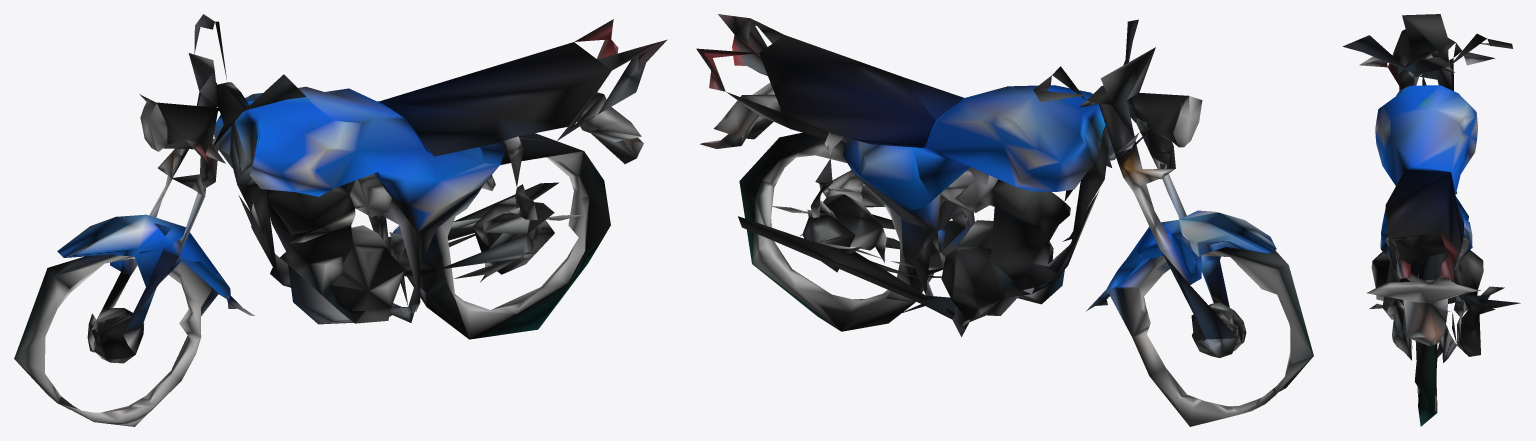
File: moto-azul-lejos.glb
3 renders of one model, left to right at view 1: azimuth 30°, elevation 25°; view 2: azimuth 150°, elevation 25°; view 3: azimuth 270°, elevation 25°, orthographic. The views are drawn at different scales.
Size of the model in its own units: 1.88 by 1.03 by 0.5768.
